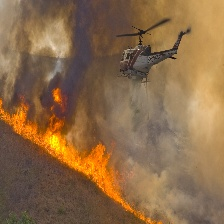fire: (1, 100, 152, 223)
smoke: (2, 2, 219, 114), (89, 114, 224, 180), (153, 179, 224, 219)
